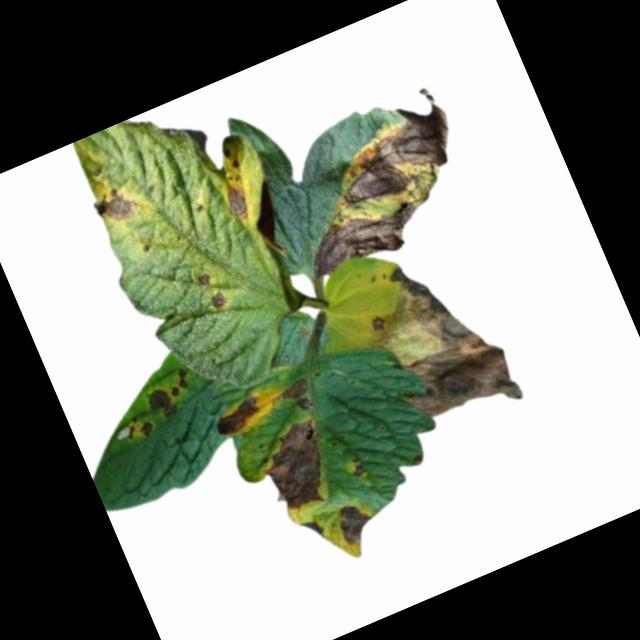Early_blight: (350, 238, 526, 443), (307, 82, 469, 217), (298, 181, 445, 284), (252, 414, 348, 518), (209, 388, 267, 441), (329, 494, 381, 549), (89, 177, 142, 230), (277, 375, 320, 419), (215, 178, 255, 224), (142, 382, 179, 424), (121, 412, 157, 445), (296, 512, 328, 546), (162, 362, 193, 397), (344, 455, 368, 483), (191, 267, 216, 291), (208, 287, 229, 311)
